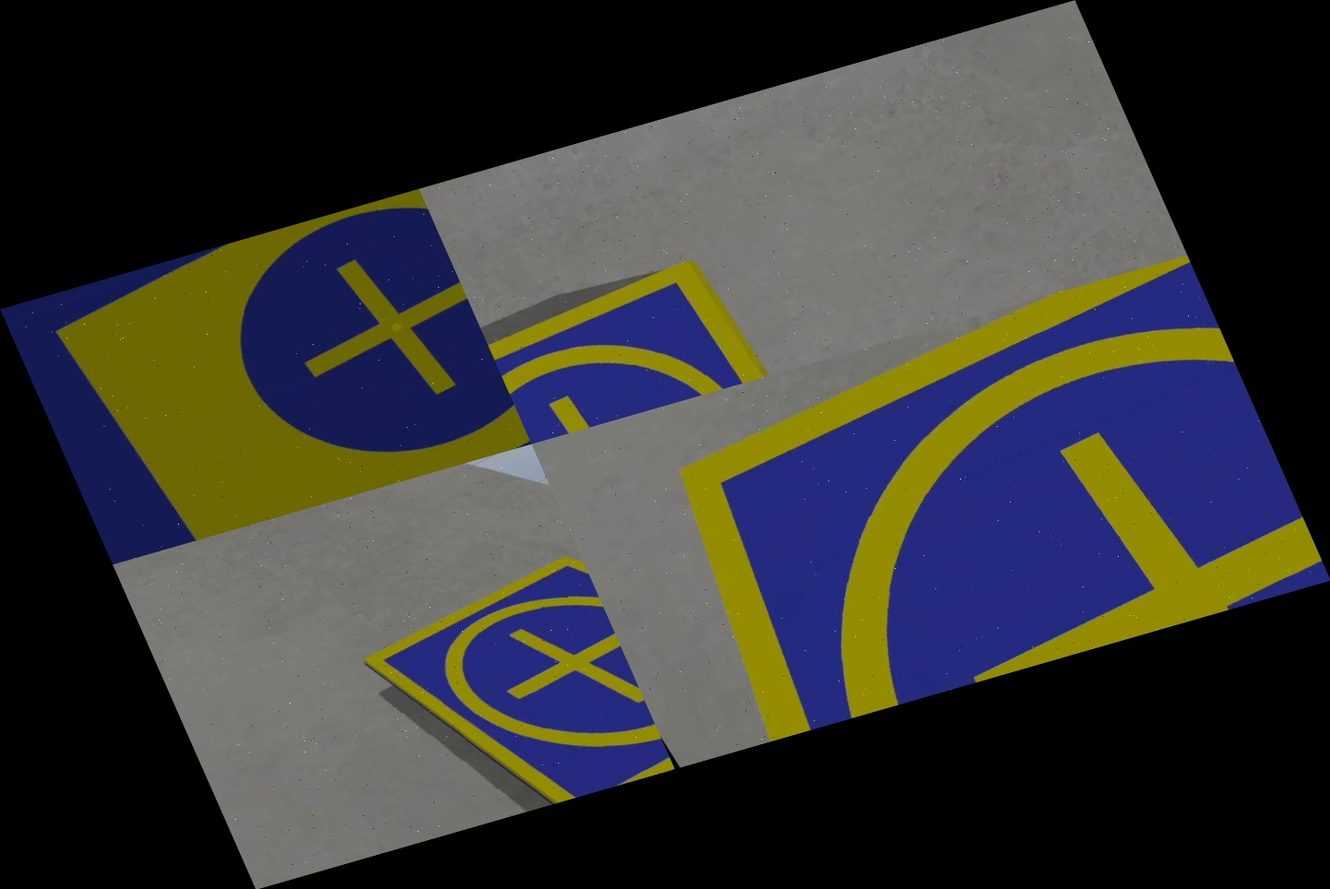large_base: (0, 188, 531, 564)
small_base: (554, 255, 1330, 762), (338, 537, 675, 836), (475, 241, 791, 444)
